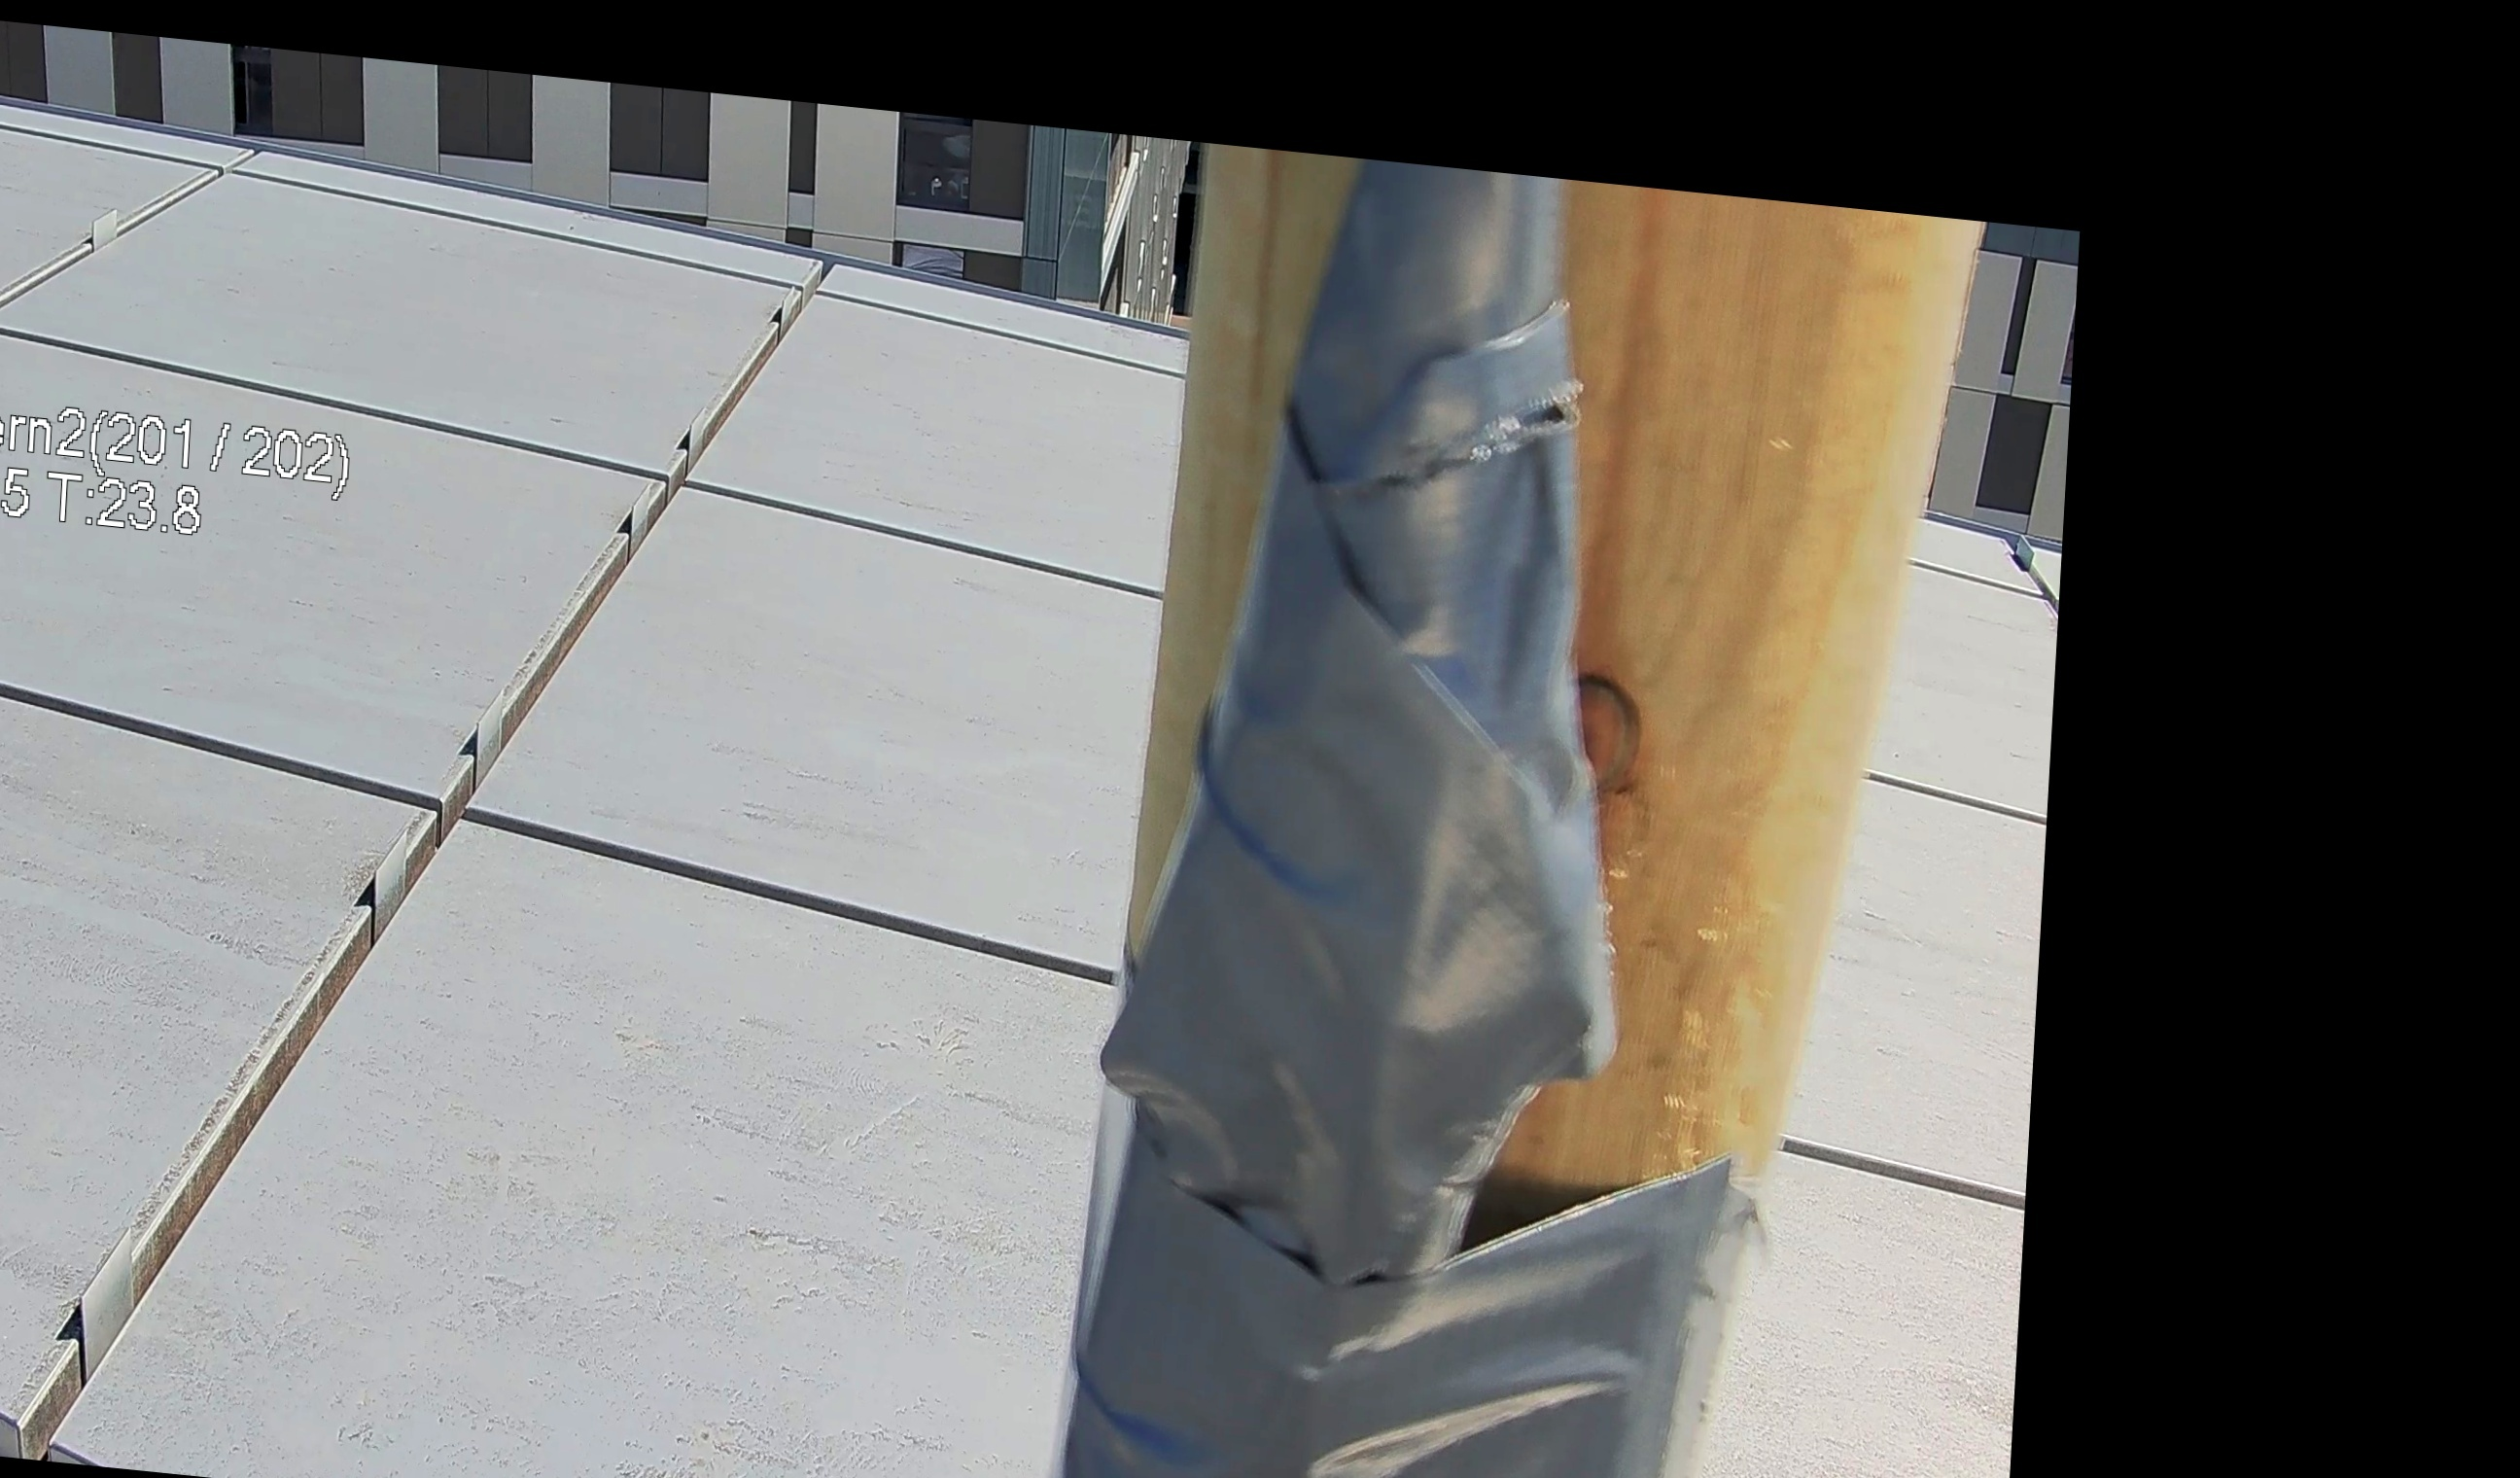Other: (1089, 183, 1701, 1316)
